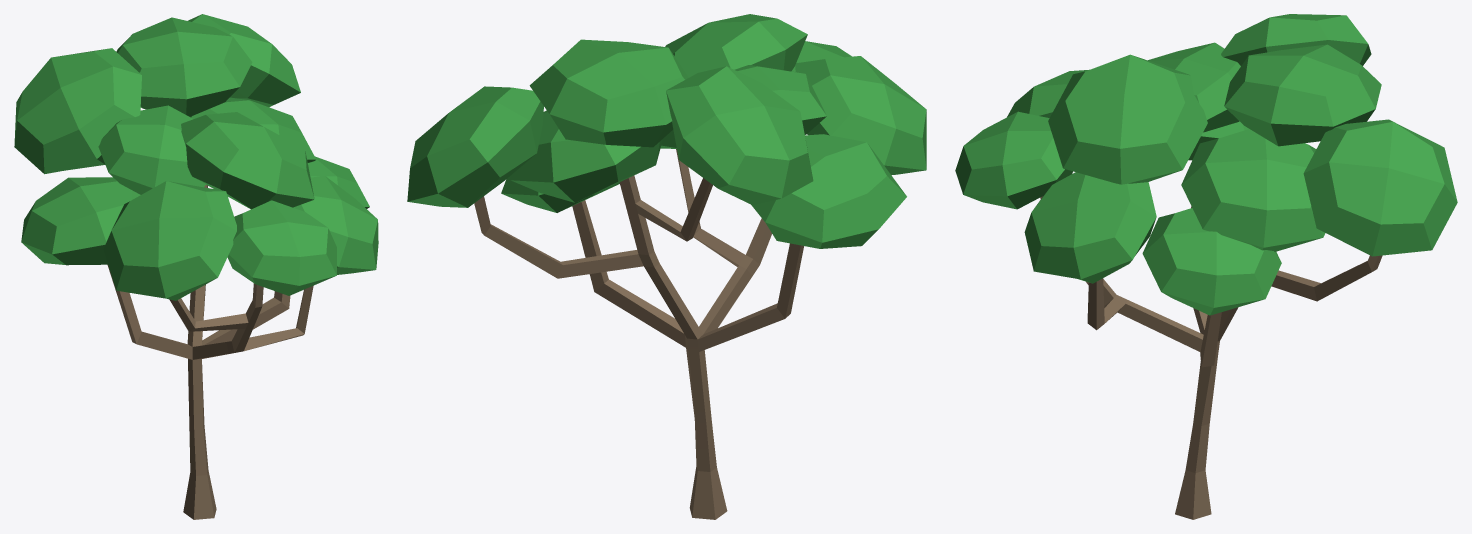
Rendered from tree_a_4.FBX.
3 renders of one model, left to right at view 1: azimuth 30°, elevation 25°; view 2: azimuth 150°, elevation 25°; view 3: azimuth 270°, elevation 25°, orthographic. The views are drawn at different scales.
Parts seen in each view (by area): view 1: tree_a_4; view 2: tree_a_4; view 3: tree_a_4.
Part boxes in pixels (x1,y1,x2,y2): tree_a_4: (14, 14, 378, 519); tree_a_4: (407, 14, 926, 519); tree_a_4: (955, 14, 1457, 519).
Bounding box in the file's own units: 6.27 × 7.77 × 7.51.
